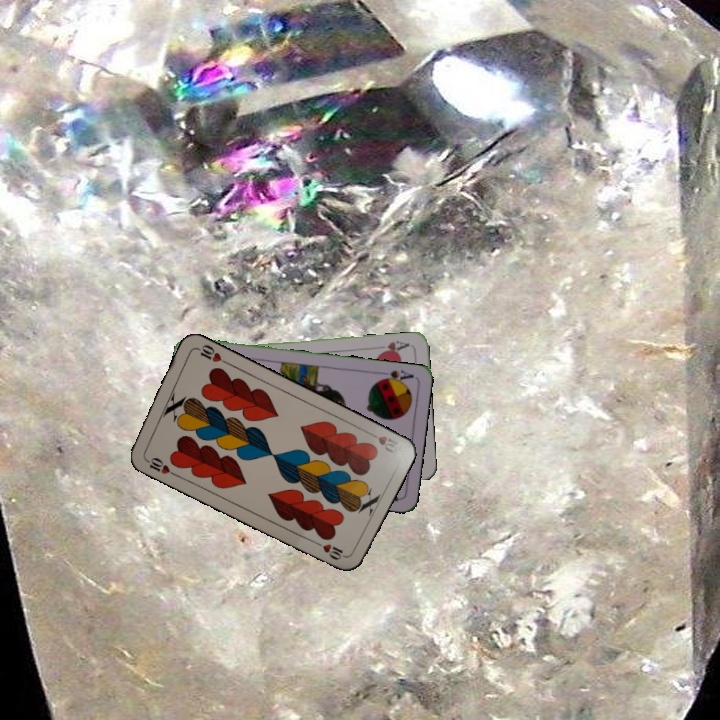H10: (364, 428, 404, 456), (140, 453, 178, 478)
HA: (375, 336, 412, 357)
SA: (375, 366, 416, 386)
